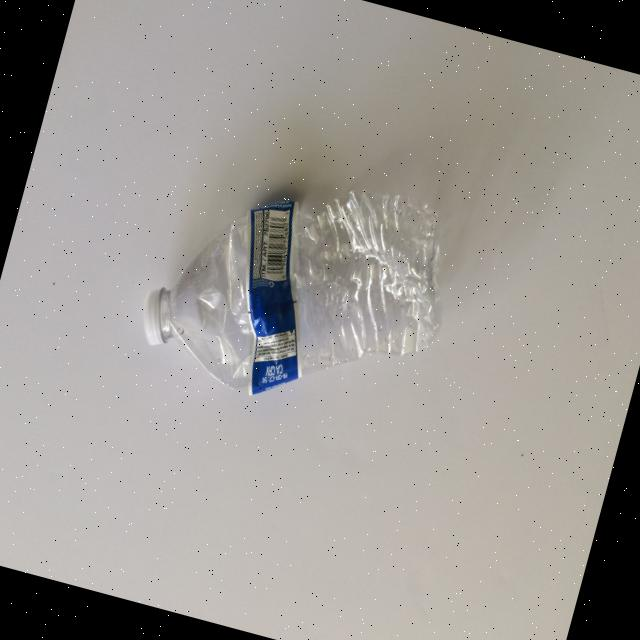plastic: (127, 133, 471, 440)
